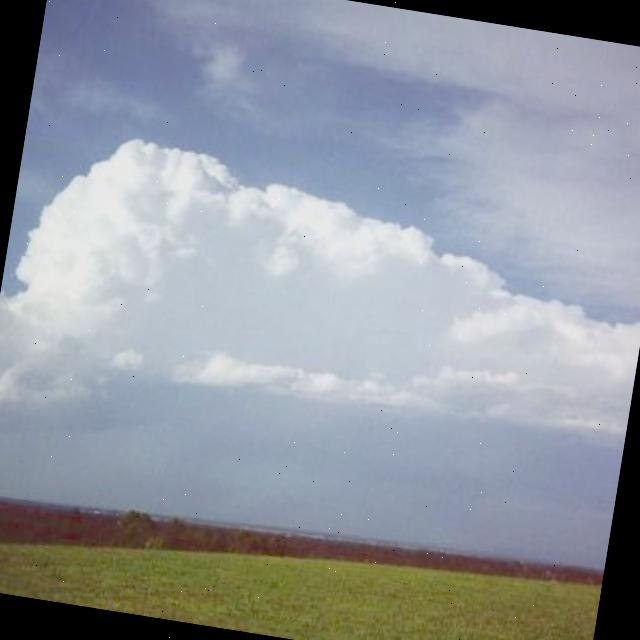Cs: (1, 18, 640, 496)
